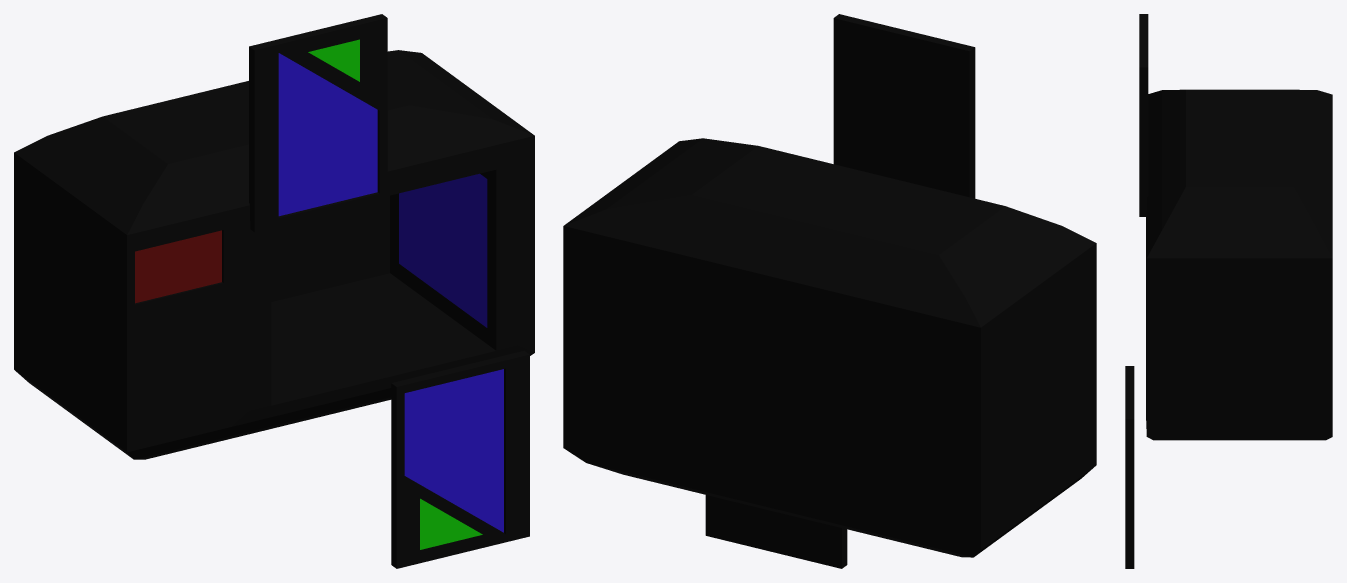
Rendered from Oven.fbx.
The picture shows the model from 3 angles, left to right: view 1: azimuth 30°, elevation 25°; view 2: azimuth 150°, elevation 25°; view 3: azimuth 270°, elevation 25°; orthographic projection. The views are drawn at different scales.
Visible parts, largest first — view 1: Cylinder.001 (×3), Cube.001 (×3), Cube.002 (×3); view 2: Cylinder.001, Cube.001, Cube.002; view 3: Cylinder.001, Cube.002, Cube.001.
Part boxes in pixels (x1,y1,x2,y2): Cylinder.001 (×3): (14,50,534,459); Cube.001 (×3): (249,14,387,232); Cube.002 (×3): (391,350,529,568); Cylinder.001: (563,138,1096,557); Cube.001: (833,14,975,198); Cube.002: (705,495,847,568); Cylinder.001: (1146,89,1332,440); Cube.002: (1125,366,1134,568); Cube.001: (1139,14,1148,216).
Bounding box in the file's own units: 130 × 166 × 69.78.
